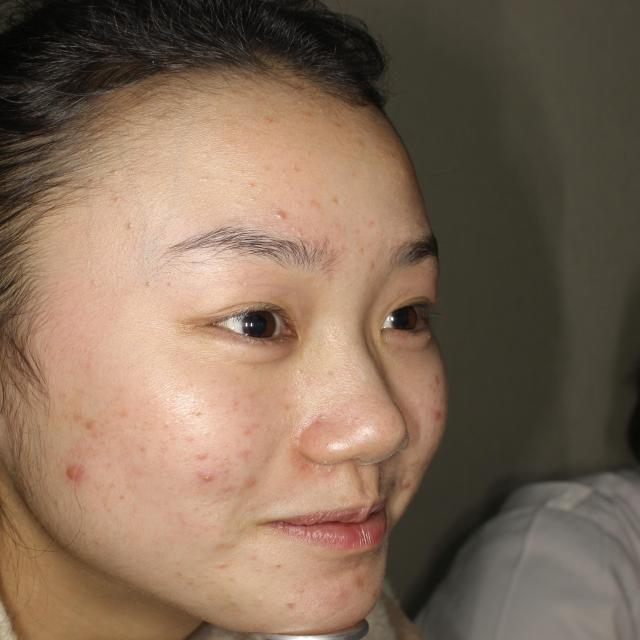acne: (390, 472, 426, 505), (264, 200, 292, 225), (182, 444, 208, 469), (242, 472, 272, 493), (193, 468, 218, 492), (426, 405, 449, 431), (57, 464, 89, 481), (347, 576, 366, 604), (75, 414, 94, 431)
